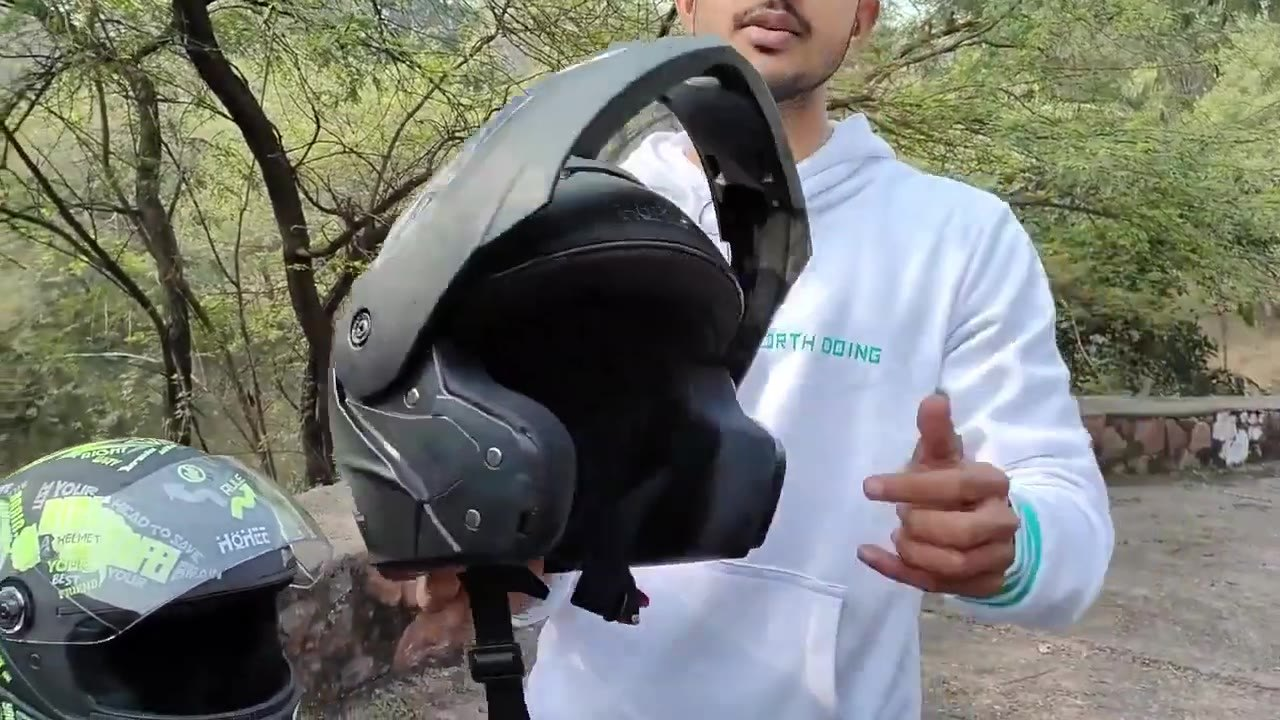helmets: (244, 39, 858, 613), (0, 452, 353, 713)
